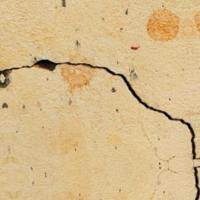crack: (0, 48, 199, 199)
